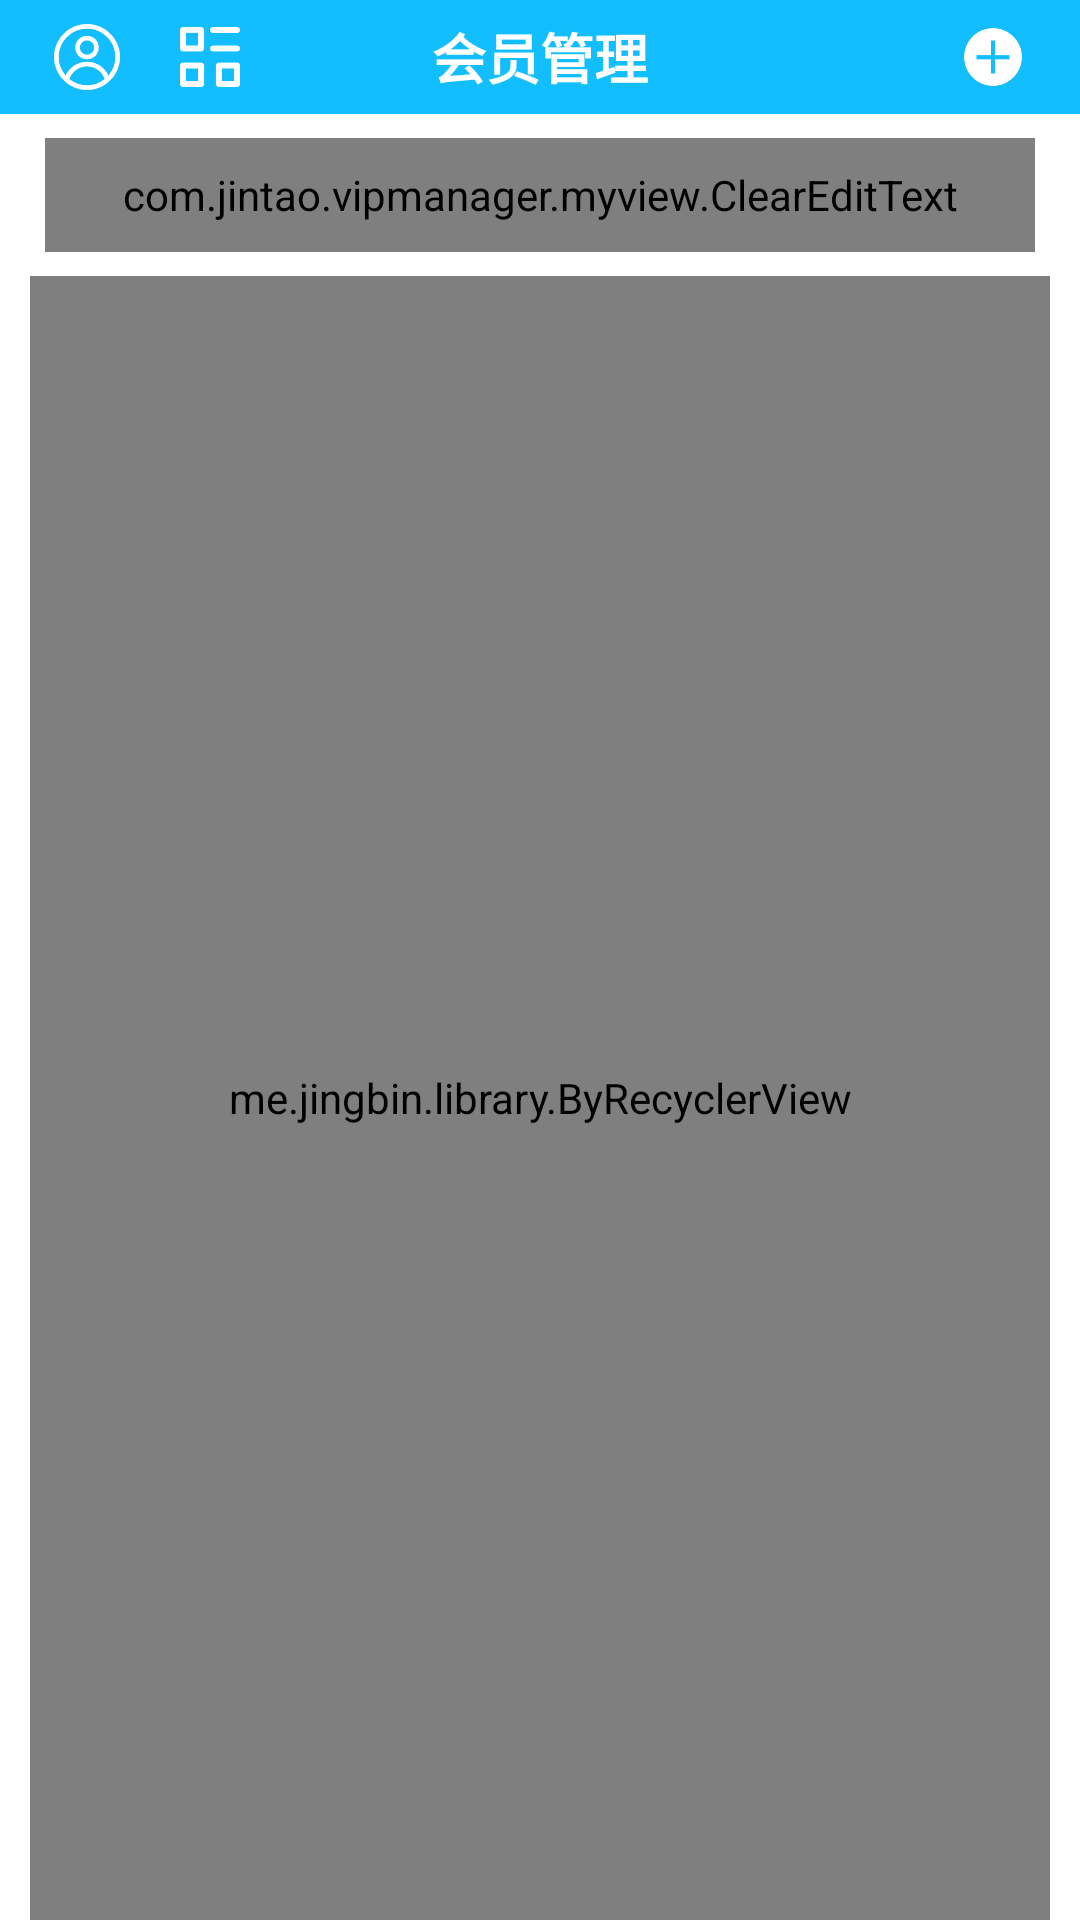

Locate icon controls on the screen. Image size 1080px x 1920px, boxes as (x1, y1, x2, y2).
title function: (180, 27, 240, 87)
title person: (54, 24, 120, 90)
